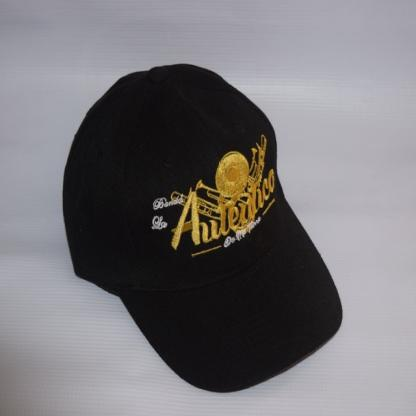cap: (70, 61, 348, 397)
